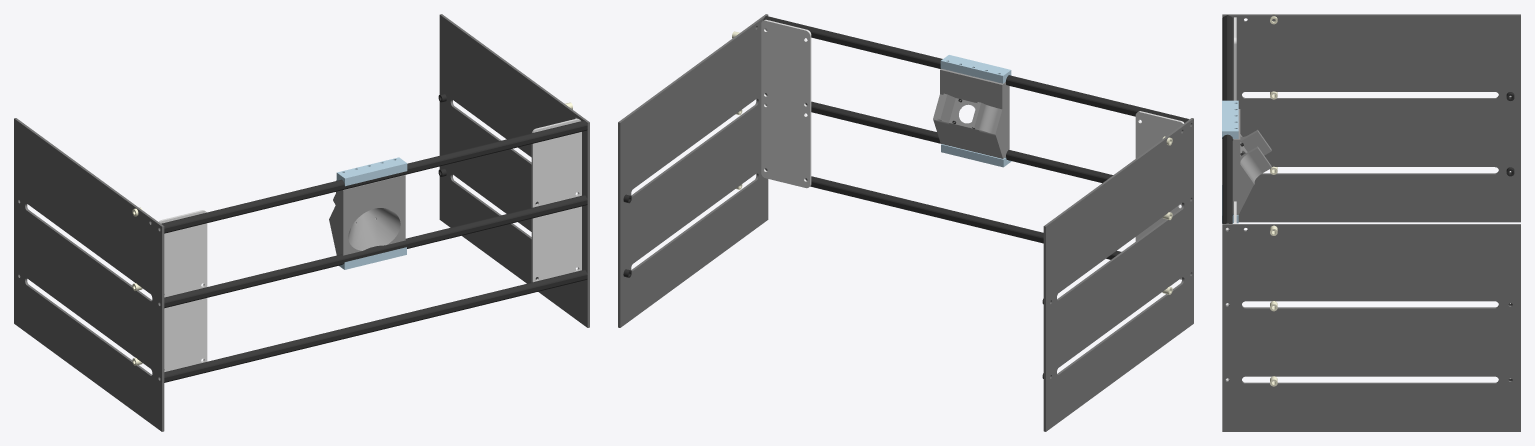
3 renders of one model, left to right at view 1: azimuth 30°, elevation 25°; view 2: azimuth 150°, elevation 25°; view 3: azimuth 270°, elevation 25°, orthographic.
Visible parts, largest first — view 1: HO-002 Hopper Outer Slider Plate (×2), 1/2" Rounded Hex (23.75" L, 13.75mm OD) (×3), Hopper Slider Plate (×2), Color Cam Body, Color Cam Clamp (×2); view 2: HO-002 Hopper Outer Slider Plate (×2), Hopper Slider Plate (×2), 1/2" Rounded Hex (23.75" L, 13.75mm OD) (×3), Color Cam Body, Color Cam Clamp (×2); view 3: HO-002 Hopper Outer Slider Plate (×2), Color Cam Body, 1/2" Rounded Hex (23.75" L, 13.75mm OD), Color Cam Clamp.
Boxes of the visible parts, left/top/right/bottom form: HO-002 Hopper Outer Slider Plate (×2): left=14, top=14, right=589, bottom=431; 1/2" Rounded Hex (23.75" L, 13.75mm OD) (×3): left=161, top=120, right=587, bottom=382; Hopper Slider Plate (×2): left=159, top=118, right=581, bottom=371; Color Cam Body: left=329, top=175, right=405, bottom=255; Color Cam Clamp (×2): left=336, top=157, right=407, bottom=269; HO-002 Hopper Outer Slider Plate (×2): left=618, top=14, right=1193, bottom=431; Hopper Slider Plate (×2): left=761, top=19, right=1183, bottom=279; 1/2" Rounded Hex (23.75" L, 13.75mm OD) (×3): left=763, top=16, right=1189, bottom=259; Color Cam Body: left=933, top=68, right=1009, bottom=158; Color Cam Clamp (×2): left=940, top=55, right=1011, bottom=167; HO-002 Hopper Outer Slider Plate (×2): left=1222, top=14, right=1520, bottom=431; Color Cam Body: left=1232, top=109, right=1271, bottom=214; 1/2" Rounded Hex (23.75" L, 13.75mm OD): left=1222, top=15, right=1232, bottom=230; Color Cam Clamp: left=1222, top=100, right=1238, bottom=138.
Bounding box in the file's own units: 0.6223 × 0.2845 × 0.3656.
